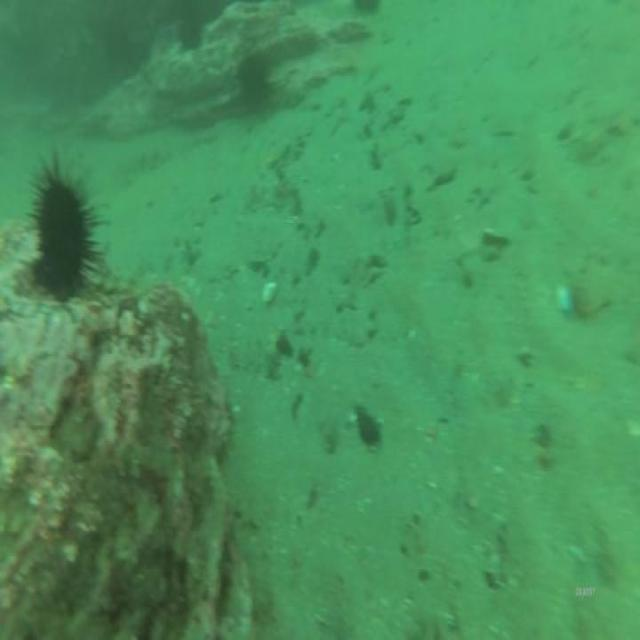echinus: (28, 163, 92, 305), (236, 52, 272, 109), (176, 12, 208, 54)
